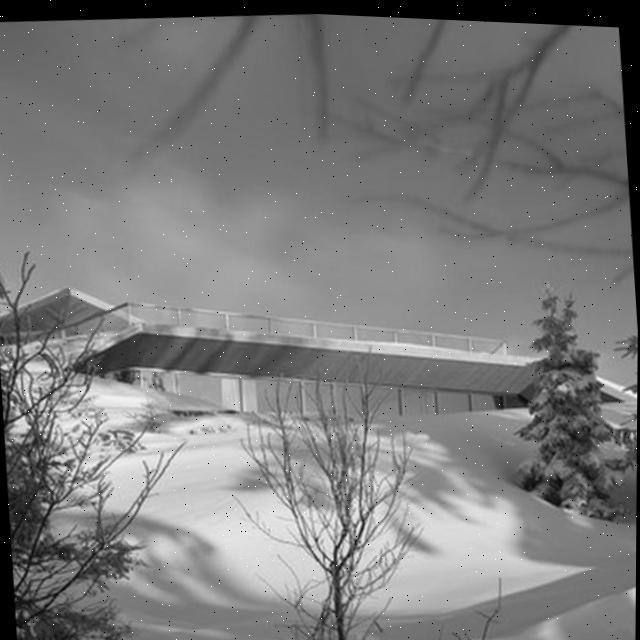building: (0, 252, 538, 458)
